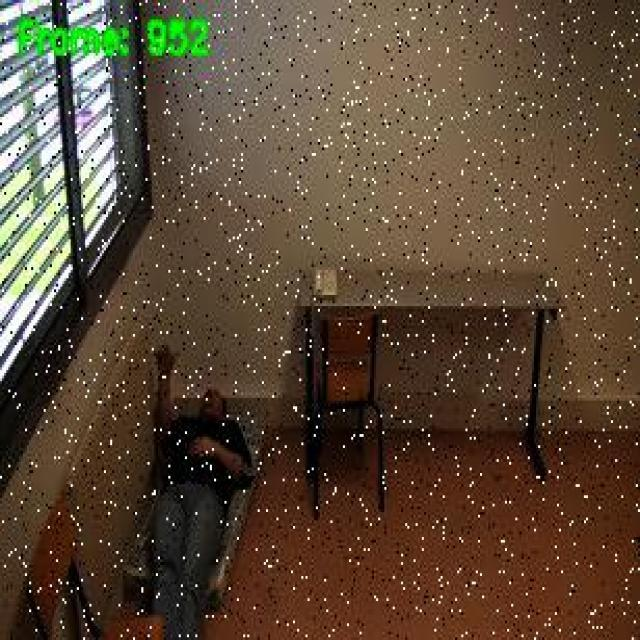fall: (152, 337, 258, 637)
